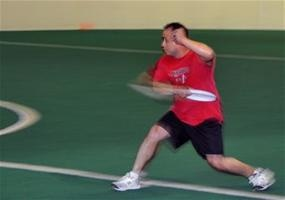person without safety: (133, 20, 248, 190)
